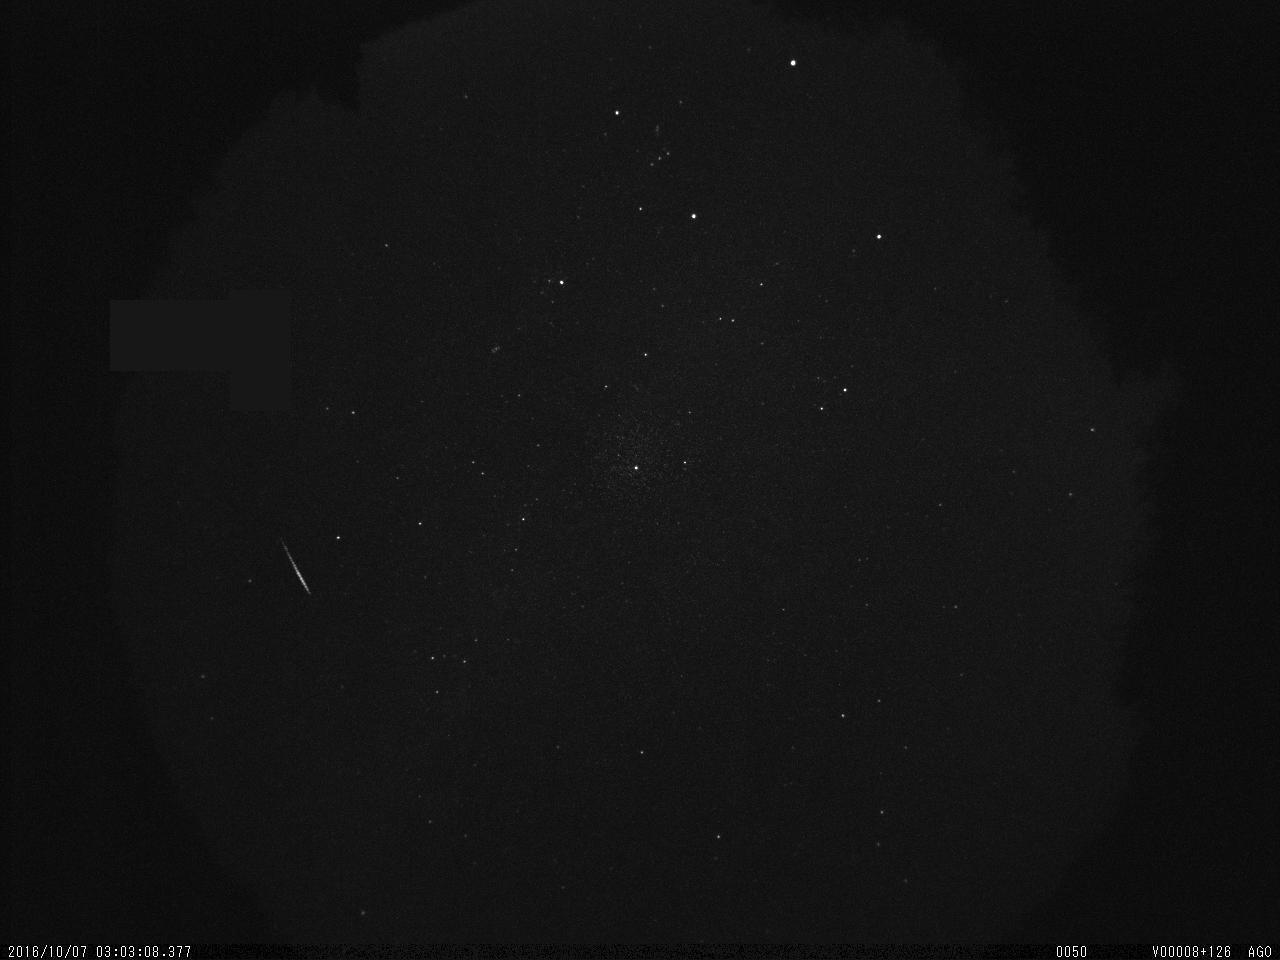meteor: (268, 530, 315, 603)
